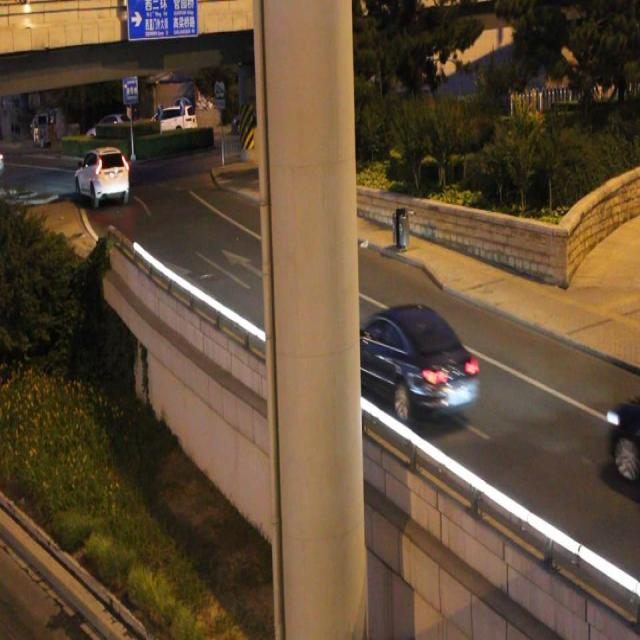car: (336, 299, 478, 425), (603, 388, 640, 484)
